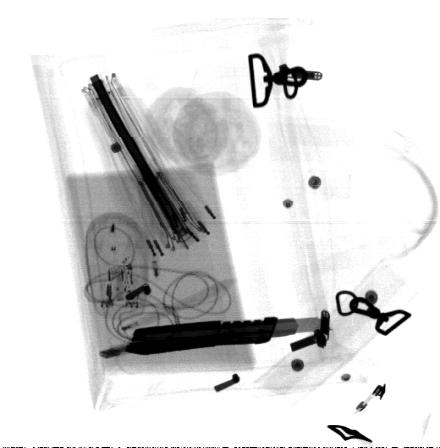Knife: (124, 315, 334, 356)
